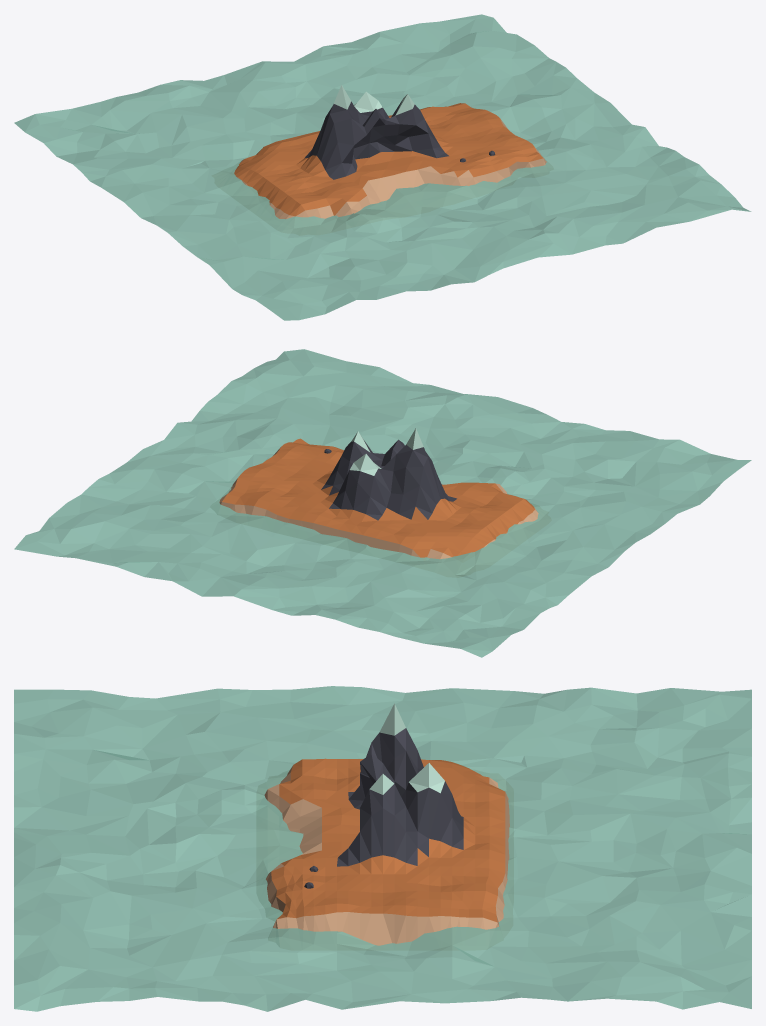
The model's file is CrescentIslandsClean.fbx.
3 renders of one model, top to bottom at view 1: azimuth 30°, elevation 25°; view 2: azimuth 150°, elevation 25°; view 3: azimuth 270°, elevation 25°, orthographic. The views are drawn at different scales.
Parts seen in each view (by area): view 1: Ocean, Ground; view 2: Ocean, Ground; view 3: Ocean, Ground.
Boxes of the visible parts, bbox=[...] form: Ocean: bbox=[14, 14, 751, 320]; Ground: bbox=[234, 85, 546, 219]; Ocean: bbox=[14, 349, 751, 657]; Ground: bbox=[219, 428, 538, 559]; Ocean: bbox=[14, 686, 751, 1011]; Ground: bbox=[264, 703, 509, 945].
Size of the model in its own units: 5877 by 1195 by 5877.
